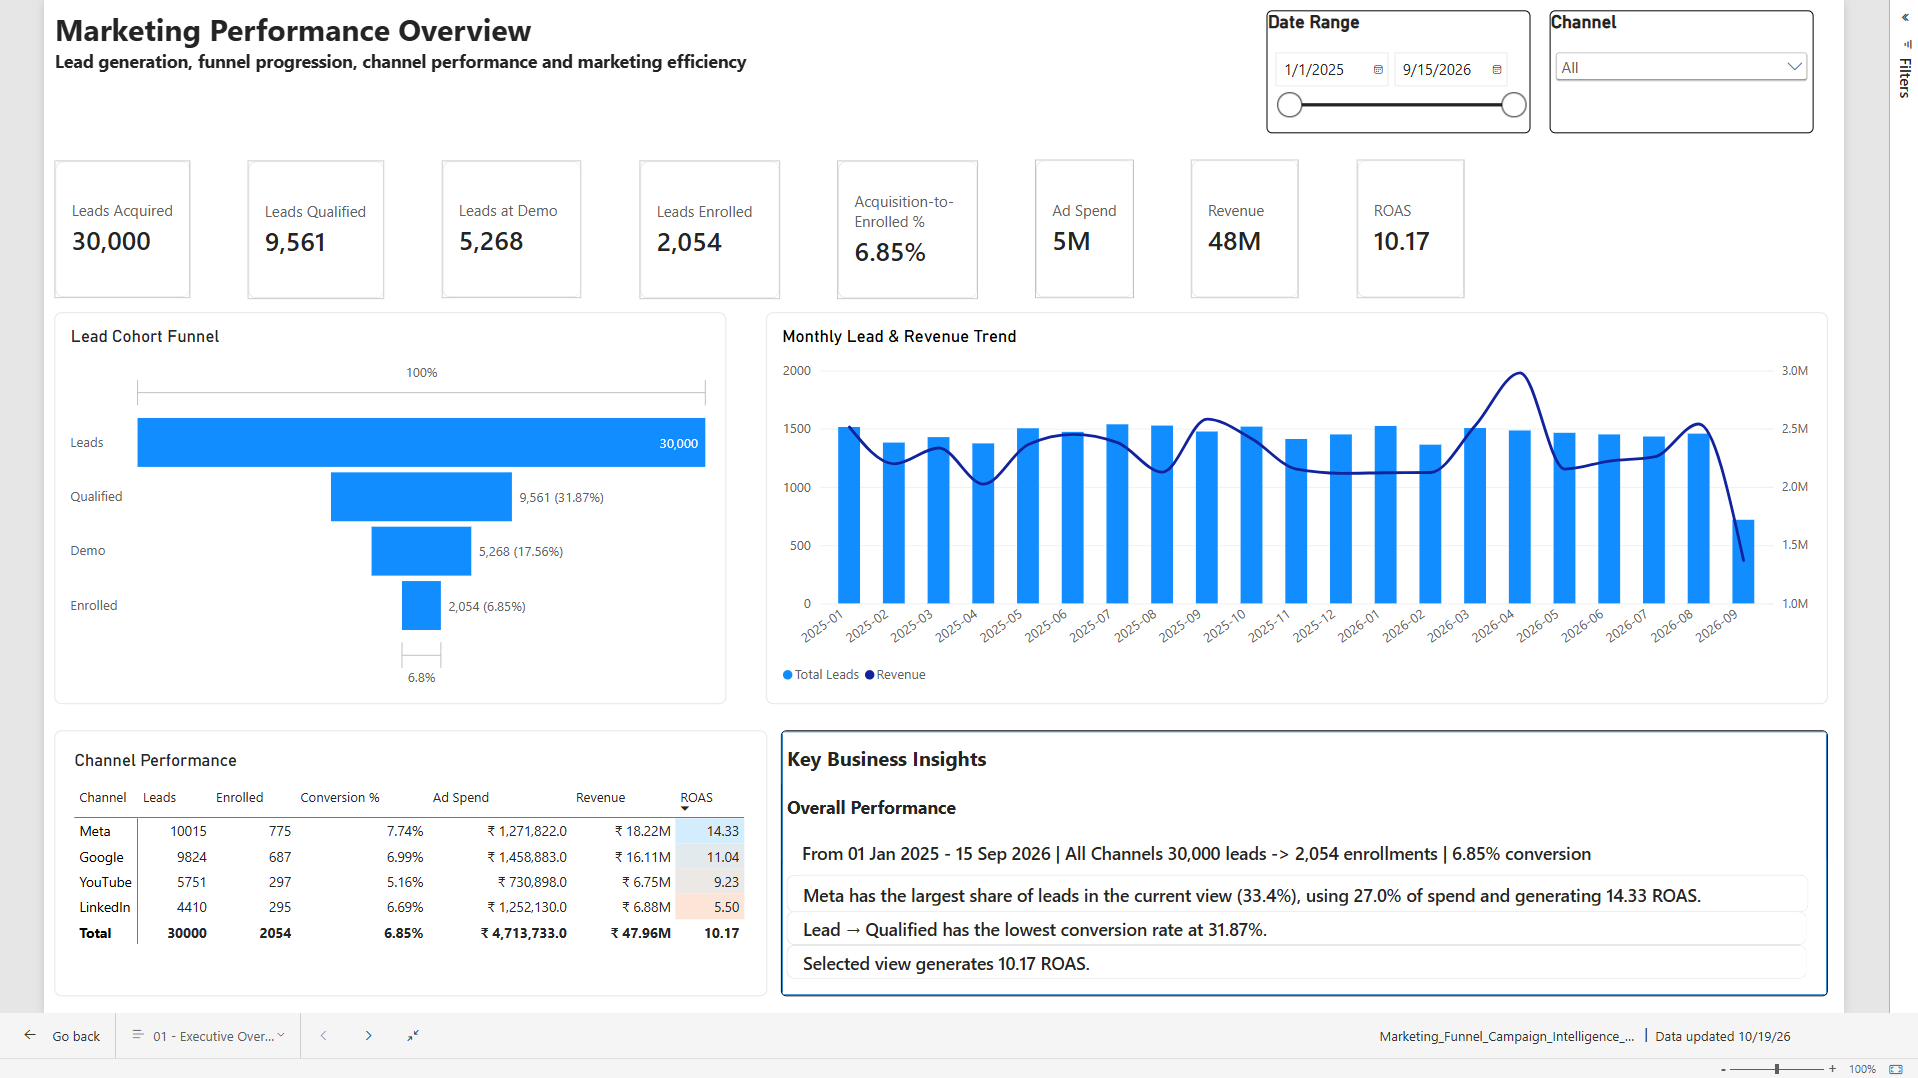

This screenshot's page, from the dashboard's own definition file:
{"tool":"powerbi","page":{"name":"01 - Executive Overview","canvas":[1920,1080],"ordinal":0},"visuals":[{"type":"slicer","title":"Channel","fields":{"Values":["DimCampaign.Channel"]},"box":[1606,11.1,281,131],"z":0},{"type":"cardVisual","fields":{"Data":["CRMActivity.Revenue"]},"box":[1223.3,170,115.7,148.6],"z":1000},{"type":"cardVisual","fields":{"Data":["CRMActivity.Ad Spend"]},"box":[1056.6,170,105.7,148.6],"z":2000},{"type":"cardVisual","fields":{"Data":["CRMActivity.ROAS"]},"box":[1400,170,115.7,148.6],"z":3000},{"type":"slicer","title":"Date Range","fields":{"Values":["DimDate.Date"]},"box":[1304,11.1,281,131],"z":4000},{"type":"funnel","title":"Lead Cohort Funnel","fields":{"Category":["FunnelStages.Stage"],"Y":["LeadStageHistory.Cohort Funnel Leads"]},"box":[10.8,333.3,716.3,417.7],"z":5000},{"type":"lineClusteredColumnComboChart","title":"Monthly Lead & Revenue Trend","fields":{"Category":["DimDate.YearMonth"],"Y":["CRMActivity.Total Leads"],"Y2":["CRMActivity.Revenue"]},"box":[770.4,333.3,1131.8,417.7],"z":6000},{"type":"pivotTable","title":"Channel Performance","fields":{"Rows":["DimCampaign.Channel"],"Values":["CRMActivity.Total Leads","FactLeads.Cohort Enrolled Leads","FactLeads.Cohort Conversion %","CRMActivity.Ad Spend","CRMActivity.Revenue","CRMActivity.ROAS"]},"box":[10.8,779.1,759.6,283.5],"z":7000},{"type":"textbox","box":[10.8,10,1285.5,132],"z":8000},{"type":"shape","box":[785.6,779.1,1116.7,283.5],"z":9000},{"type":"textbox","box":[792.1,794.2,1066.9,32.5],"z":10000},{"type":"textbox","box":[792.1,848.3,1090.7,36.8],"z":11000},{"type":"cardVisual","fields":{"Data":["FactLeads.KBI Overall Performance"]},"box":[792.1,885.1,1088.6,47.6],"z":12000},{"type":"cardVisual","fields":{"Data":["FactLeads.KBI Channel Performance"]},"box":[792.1,932.7,1090,40],"z":13000},{"type":"cardVisual","fields":{"Data":["FactLeads.KBI Funnel Performance"]},"box":[792.1,971.7,1088,36],"z":14000},{"type":"cardVisual","title":"Total Leads","fields":{"Data":["FactLeads.Cohort Total Leads"]},"box":[10.8,171.2,145.6,147.4],"z":15000},{"type":"cardVisual","fields":{"Data":["FactLeads.Cohort Qualified Leads"]},"box":[217.4,170.6,146,148],"z":16000},{"type":"cardVisual","fields":{"Data":["FactLeads.Cohort Demo Leads"]},"box":[424.4,171.4,149.3,147.2],"z":17000},{"type":"cardVisual","fields":{"Data":["FactLeads.Cohort Enrolled Leads"]},"box":[634.7,170.6,150,148],"z":18000},{"type":"cardVisual","fields":{"Data":["FactLeads.Cohort Conversion %"]},"box":[845.6,170.6,150,148],"z":19000},{"type":"cardVisual","fields":{"Data":["FactLeads.KBI Marketing Efficiency"]},"box":[792.1,1008.5,1088,36],"z":20000}]}

Visuals, with their boxes on the page's 1920x1080 design canvas (x1, y1, x2, y2). These are canvas units, not pixel positions in the 1918x1078 screenshot, which may show the page scaled, cropped or inside an application window:
"Channel" slicer: pyautogui.locateOnScreen(1606, 11, 1887, 142)
cardVisual - CRMActivity.Revenue: pyautogui.locateOnScreen(1223, 170, 1339, 319)
cardVisual - CRMActivity.Ad Spend: pyautogui.locateOnScreen(1057, 170, 1162, 319)
cardVisual - CRMActivity.ROAS: pyautogui.locateOnScreen(1400, 170, 1516, 319)
"Date Range" slicer: pyautogui.locateOnScreen(1304, 11, 1585, 142)
"Lead Cohort Funnel" funnel: pyautogui.locateOnScreen(11, 333, 727, 751)
"Monthly Lead & Revenue Trend" lineClusteredColumnComboChart: pyautogui.locateOnScreen(770, 333, 1902, 751)
"Channel Performance" pivotTable: pyautogui.locateOnScreen(11, 779, 770, 1063)
textbox: pyautogui.locateOnScreen(11, 10, 1296, 142)
shape: pyautogui.locateOnScreen(786, 779, 1902, 1063)
textbox: pyautogui.locateOnScreen(792, 794, 1859, 827)
textbox: pyautogui.locateOnScreen(792, 848, 1883, 885)
cardVisual - FactLeads.KBI Overall Performance: pyautogui.locateOnScreen(792, 885, 1881, 933)
cardVisual - FactLeads.KBI Channel Performance: pyautogui.locateOnScreen(792, 933, 1882, 973)
cardVisual - FactLeads.KBI Funnel Performance: pyautogui.locateOnScreen(792, 972, 1880, 1008)
"Total Leads" cardVisual: pyautogui.locateOnScreen(11, 171, 156, 319)
cardVisual - FactLeads.Cohort Qualified Leads: pyautogui.locateOnScreen(217, 171, 363, 319)
cardVisual - FactLeads.Cohort Demo Leads: pyautogui.locateOnScreen(424, 171, 574, 319)
cardVisual - FactLeads.Cohort Enrolled Leads: pyautogui.locateOnScreen(635, 171, 785, 319)
cardVisual - FactLeads.Cohort Conversion %: pyautogui.locateOnScreen(846, 171, 996, 319)
cardVisual - FactLeads.KBI Marketing Efficiency: pyautogui.locateOnScreen(792, 1008, 1880, 1044)
